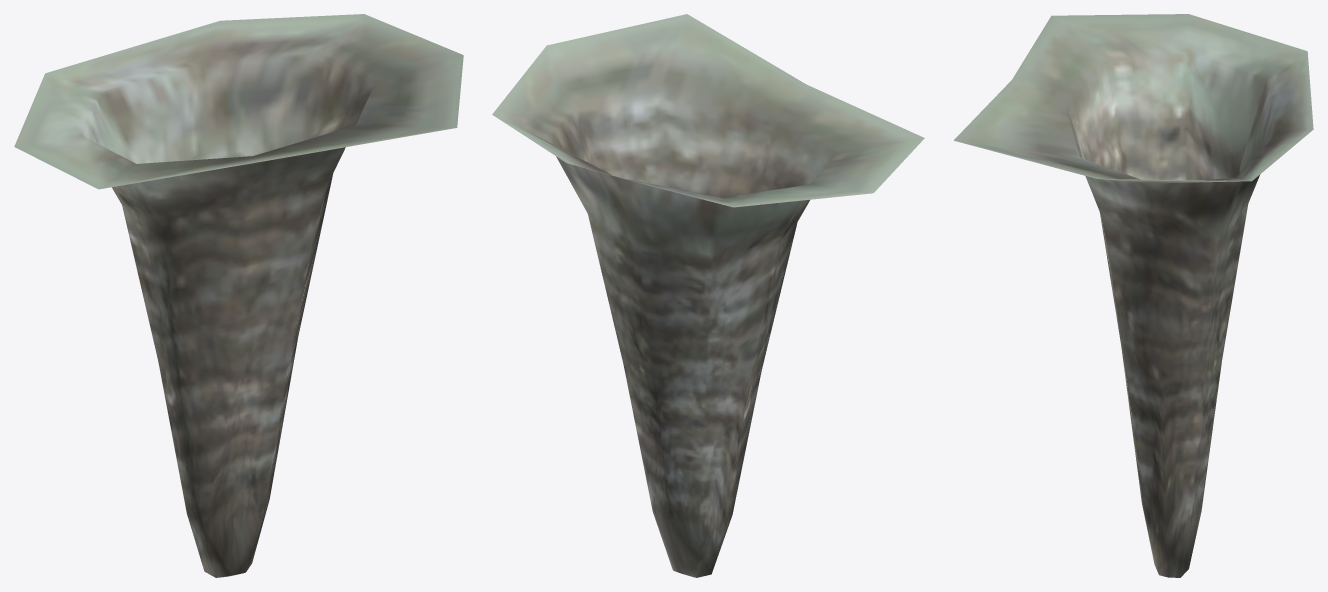
Rendered from TROLLHOLE02_PS-MAINSTALAG68.fbx.
The picture shows the model from 3 angles, left to right: view 1: azimuth 30°, elevation 25°; view 2: azimuth 150°, elevation 25°; view 3: azimuth 270°, elevation 25°; orthographic projection. The views are drawn at different scales.
Parts seen in each view (by area): view 1: TROLLHOLE02_PS-MAINSTALAG68; view 2: TROLLHOLE02_PS-MAINSTALAG68; view 3: TROLLHOLE02_PS-MAINSTALAG68.
Part boxes in pixels (bbox=[...]): TROLLHOLE02_PS-MAINSTALAG68: bbox=[14, 14, 463, 577]; TROLLHOLE02_PS-MAINSTALAG68: bbox=[492, 14, 924, 577]; TROLLHOLE02_PS-MAINSTALAG68: bbox=[954, 14, 1313, 577].
Bounding box in the file's own units: 28369 × 33800 × 22455.
1 material, 1 textured.
